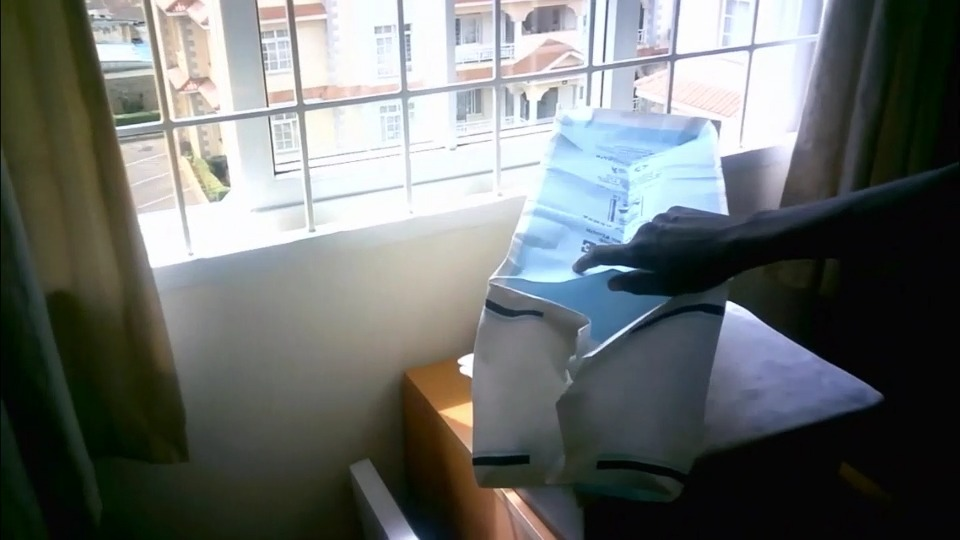wheat_flour_blue_label: (474, 110, 731, 498), (473, 103, 477, 110)
